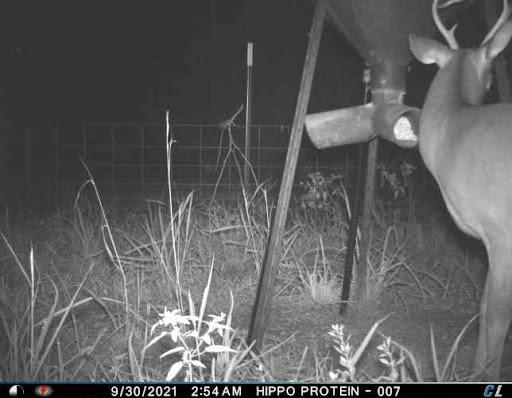Deer: (406, 0, 512, 382)
